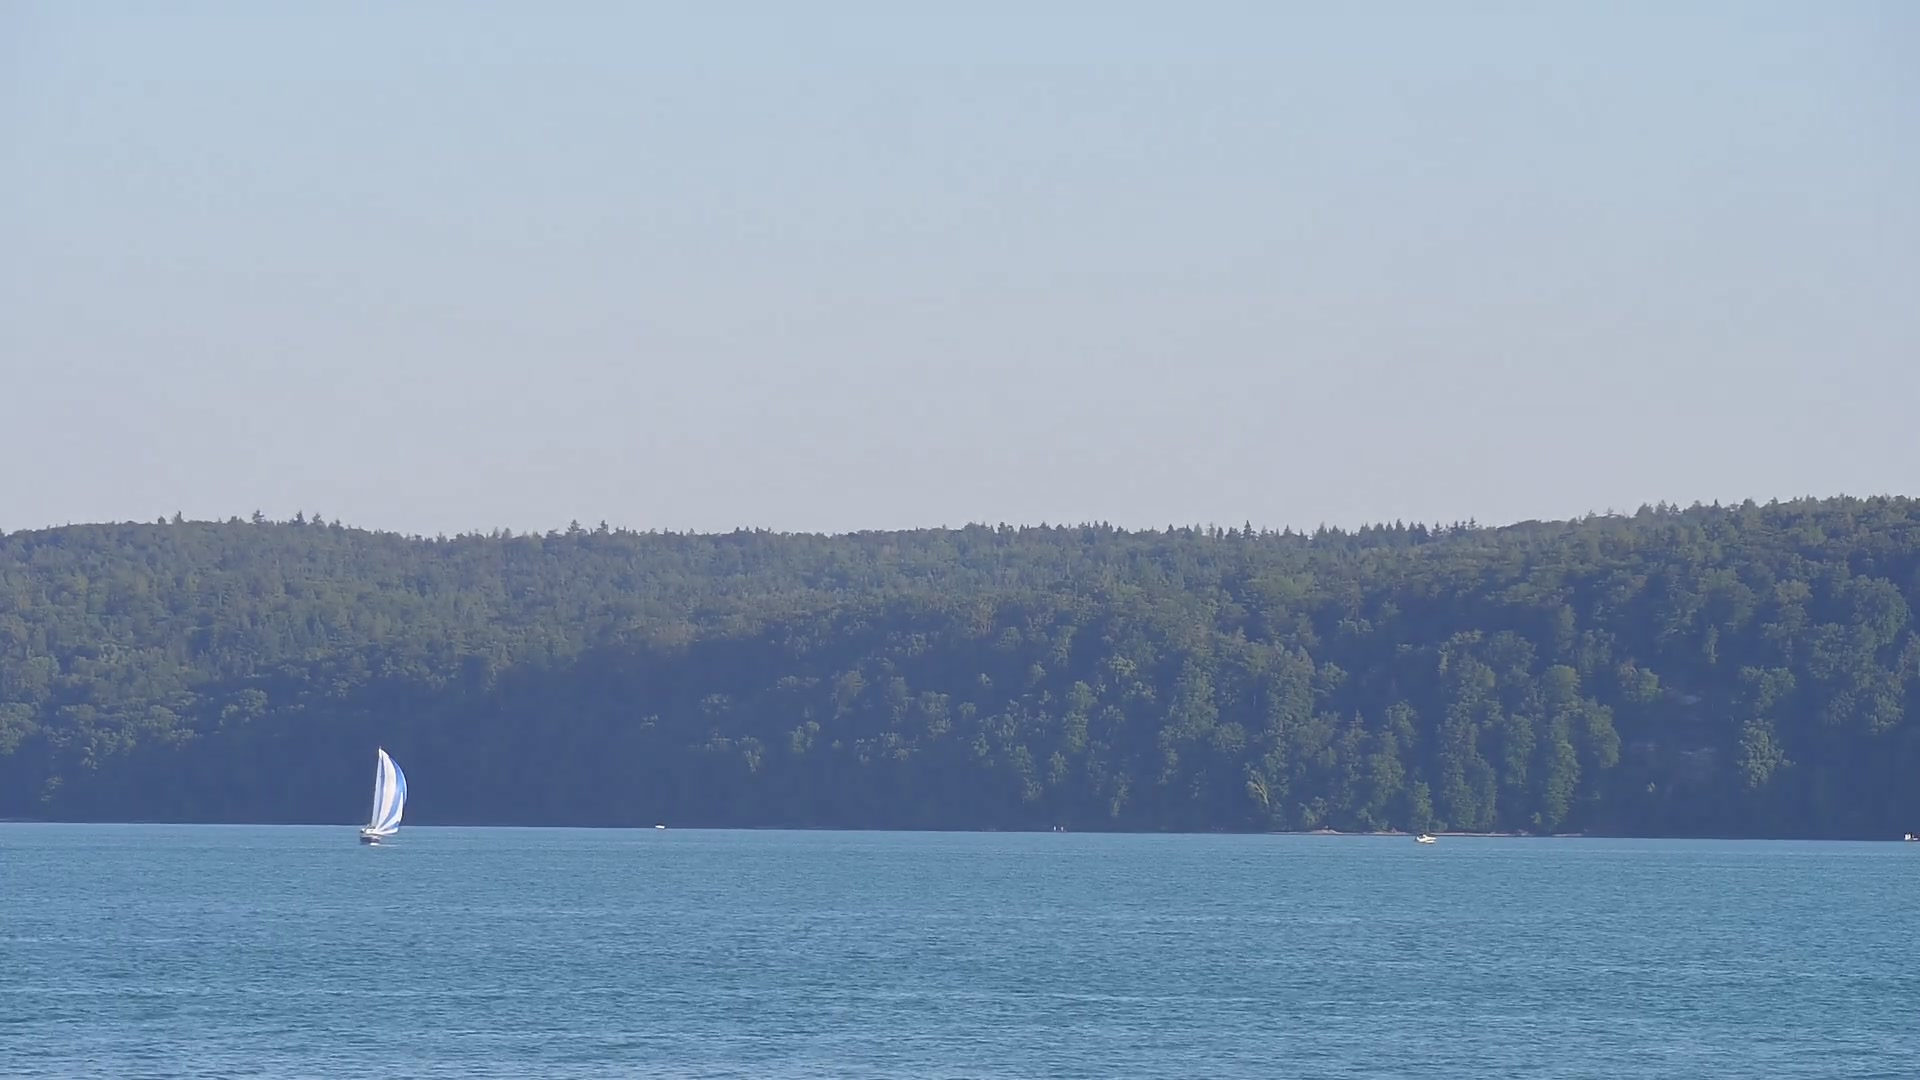sea: (357, 745, 407, 847), (1414, 831, 1437, 844), (1903, 831, 1919, 843), (654, 822, 666, 829)
